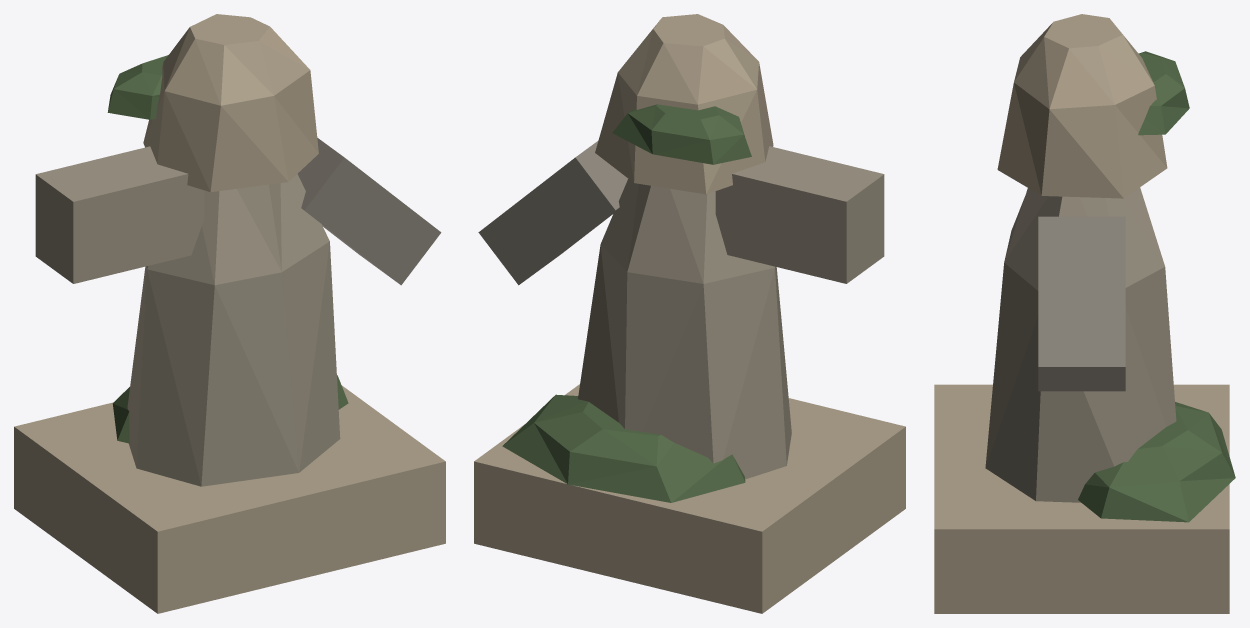
The model's file is Decor_MossStatue.fbx.
3 renders of one model, left to right at view 1: azimuth 30°, elevation 25°; view 2: azimuth 150°, elevation 25°; view 3: azimuth 270°, elevation 25°, orthographic. The views are drawn at different scales.
Visible parts, largest first — view 1: Decor_MossStatue; view 2: Decor_MossStatue; view 3: Decor_MossStatue.
Boxes of the visible parts, x1,y1,x2,y2 form: Decor_MossStatue: (14,14,445,613); Decor_MossStatue: (474,14,905,613); Decor_MossStatue: (934,14,1235,613).
Bounding box in the file's own units: 1.4 × 1.81 × 0.9695.
